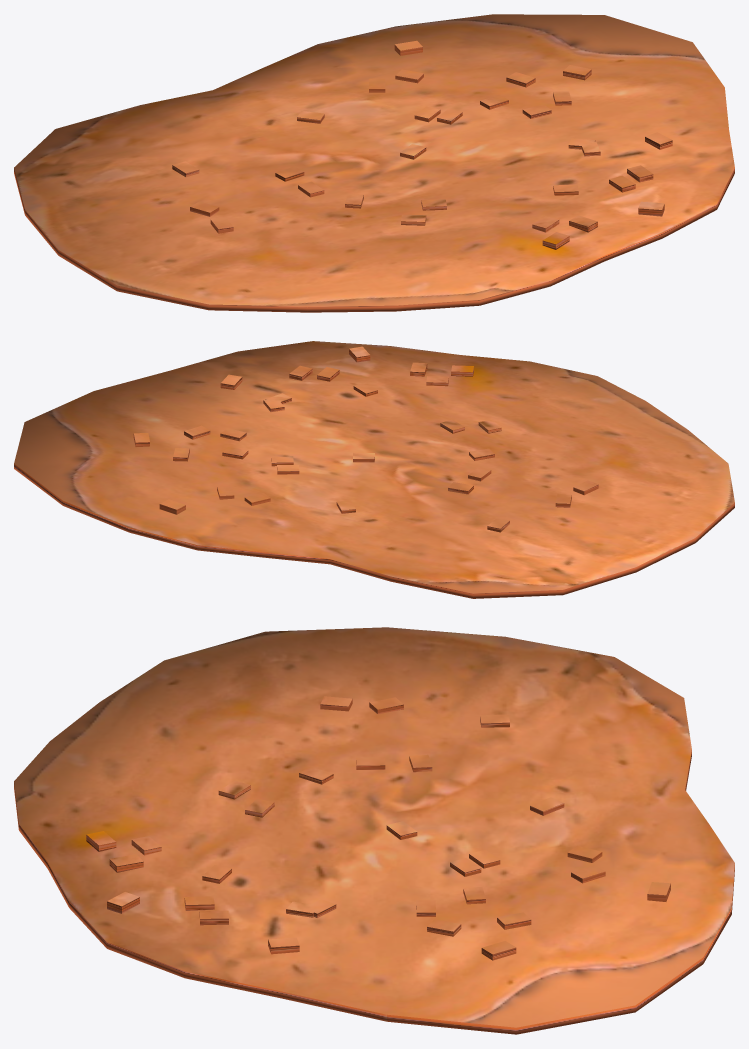
File: sauce-burger.glb
3 views of the same model, one above another, from view 1: azimuth 30°, elevation 25°; view 2: azimuth 150°, elevation 25°; view 3: azimuth 270°, elevation 25° (orthographic). The views are drawn at different scales.
Visible parts, largest first — view 1: sauce-burger; view 2: sauce-burger; view 3: sauce-burger.
Part boxes in pixels (left/top/right/bottom): sauce-burger: left=14, top=14, right=734, bottom=312; sauce-burger: left=14, top=341, right=734, bottom=598; sauce-burger: left=14, top=627, right=734, bottom=1034.
Size of the model in its own units: 9.83 by 0.18 by 7.48.
Materials: 1 (1 with a texture image).
